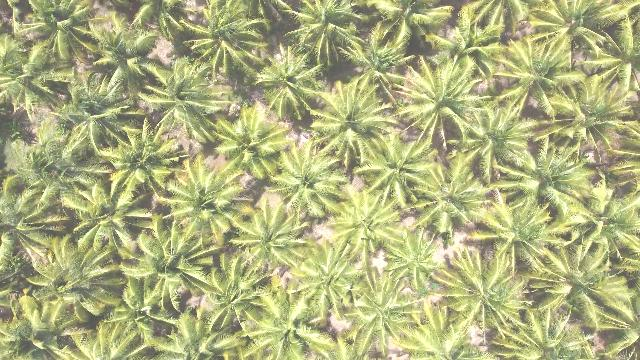trees: (527, 229, 638, 345), (511, 3, 634, 90), (533, 68, 638, 158), (394, 49, 492, 144), (434, 243, 530, 338), (7, 129, 98, 229), (307, 72, 399, 167), (125, 216, 217, 310), (96, 274, 192, 359), (353, 128, 446, 215), (141, 54, 231, 142), (24, 228, 128, 301), (323, 179, 408, 268), (162, 151, 244, 241), (407, 151, 492, 236), (87, 10, 169, 98), (54, 72, 140, 155), (64, 174, 150, 257), (341, 267, 423, 354), (184, 2, 272, 83), (236, 285, 331, 360), (517, 135, 598, 219), (495, 297, 602, 360), (288, 234, 366, 320), (104, 119, 185, 200), (215, 103, 295, 184), (254, 40, 333, 120), (265, 143, 347, 220), (4, 28, 73, 119), (464, 104, 541, 181), (394, 298, 489, 360), (235, 200, 316, 270), (289, 1, 373, 67), (198, 250, 273, 322), (4, 292, 87, 357), (153, 305, 234, 359), (594, 12, 640, 71)
